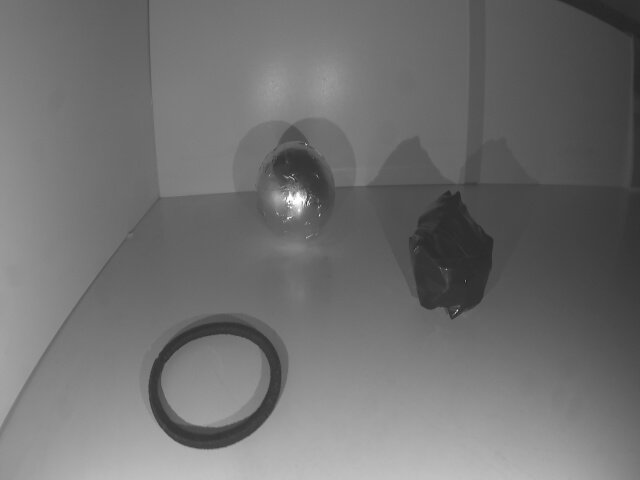Dead: (414, 195, 491, 312)
Live: (252, 135, 337, 240)
